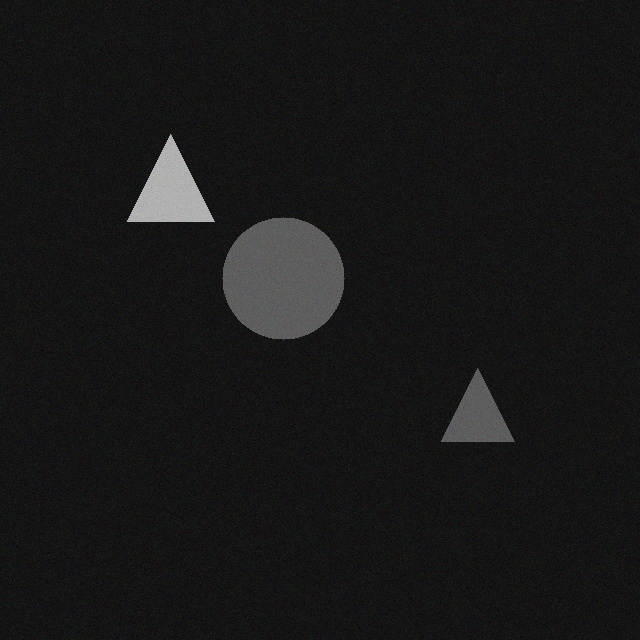circle: (215, 229, 337, 351)
triangle: (120, 146, 207, 233), (434, 380, 507, 453)
